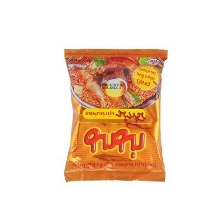snack: (53, 40, 175, 188)
